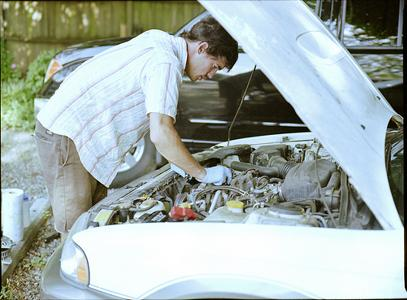person: (31, 14, 241, 246)
